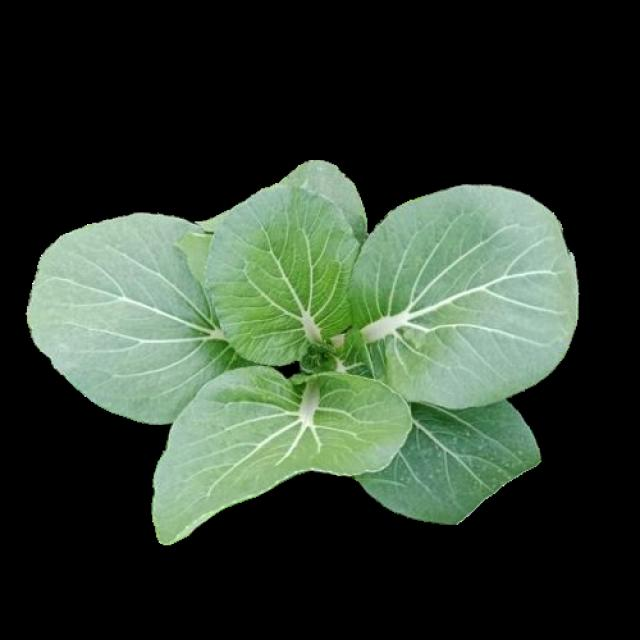healthy: (27, 158, 577, 542)
mature: (28, 158, 577, 542)
